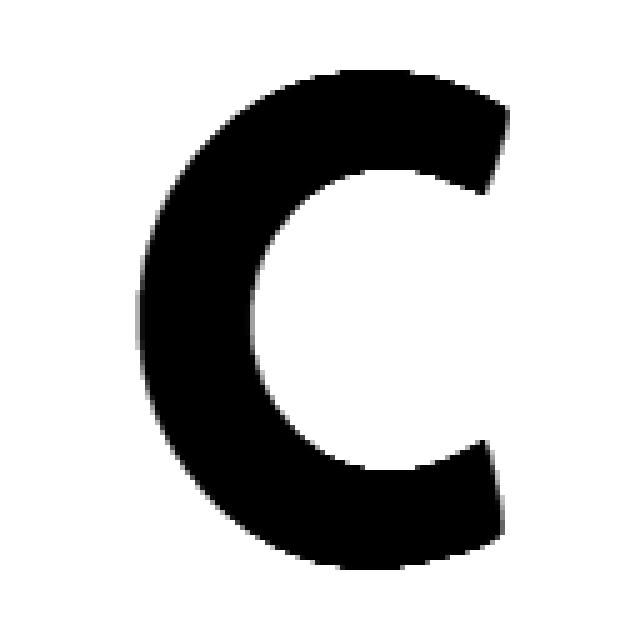C: (140, 70, 510, 570)
